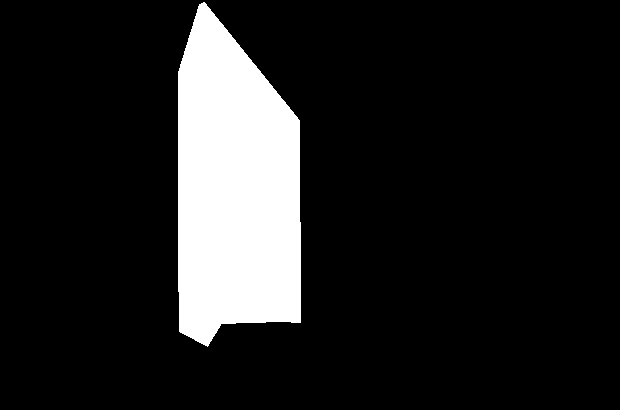type3s: (176, 1, 303, 349)
